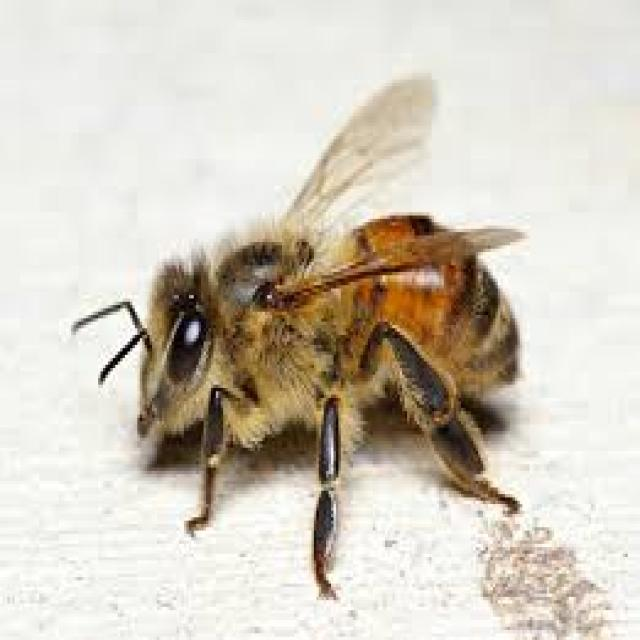Apis-mellifera-scutellata: (69, 66, 568, 612)
